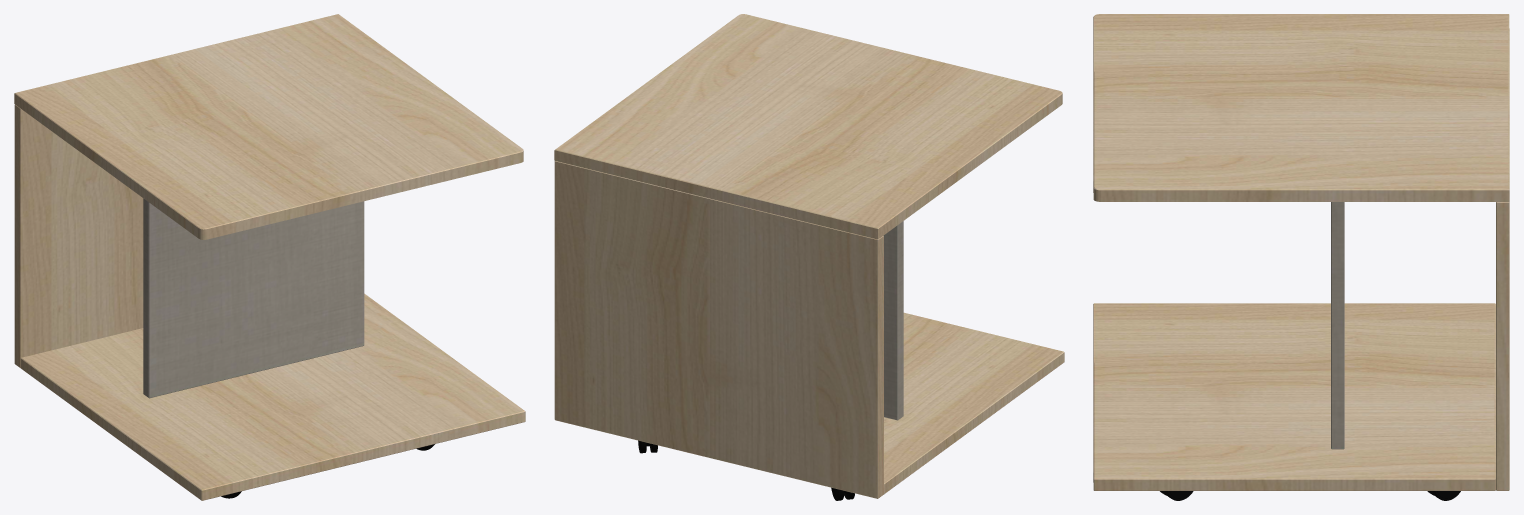
3 renders of one model, left to right at view 1: azimuth 30°, elevation 25°; view 2: azimuth 150°, elevation 25°; view 3: azimuth 270°, elevation 25°, orthographic. The views are drawn at different scales.
Bounding box in the file's own units: 550 × 500 × 550.
